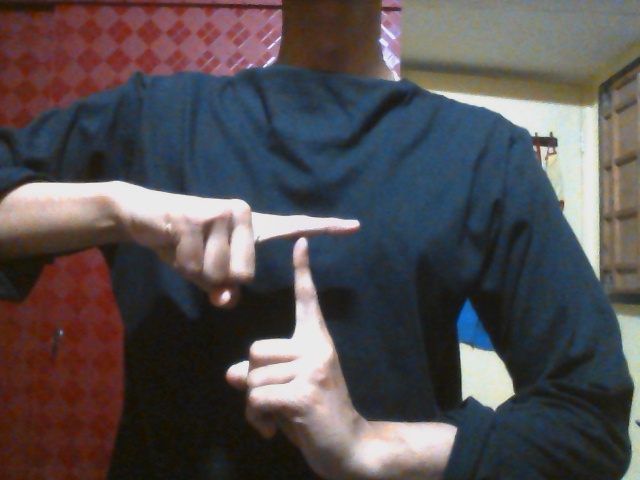T: (161, 195, 362, 449)
